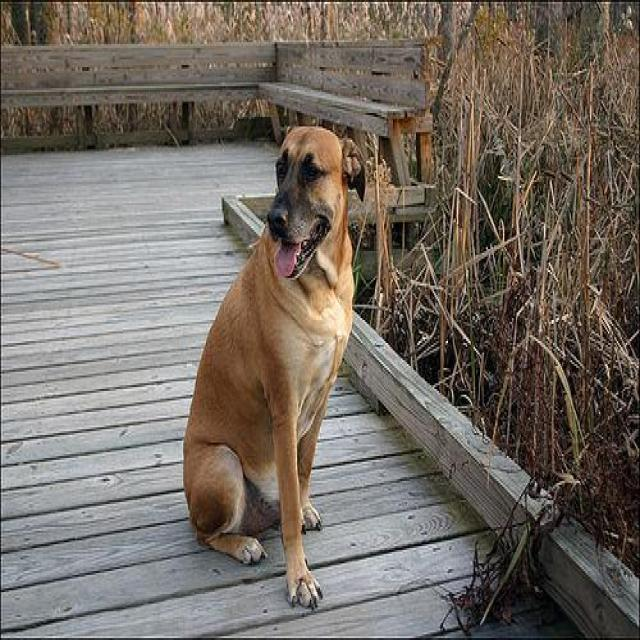sitting: (177, 120, 367, 613)
